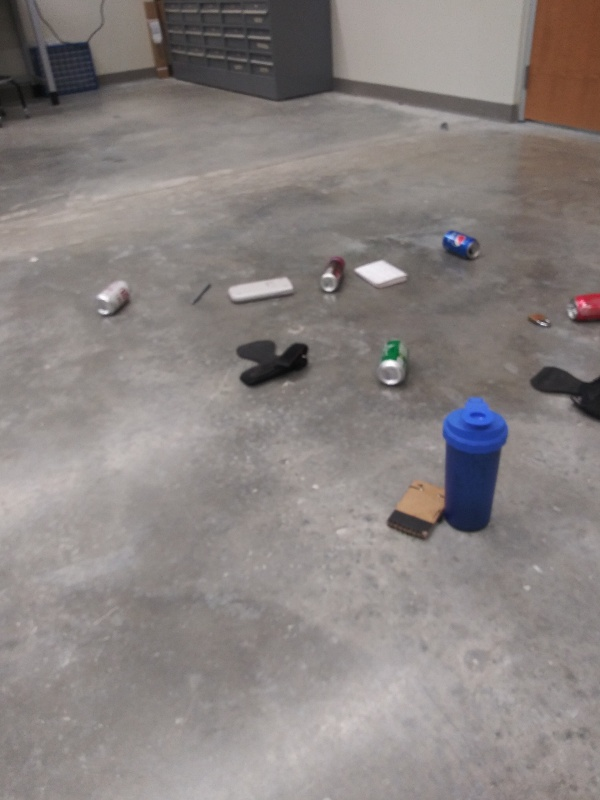can: (371, 333, 412, 393), (93, 275, 136, 320), (317, 250, 351, 295), (439, 227, 484, 261), (564, 286, 600, 328)
